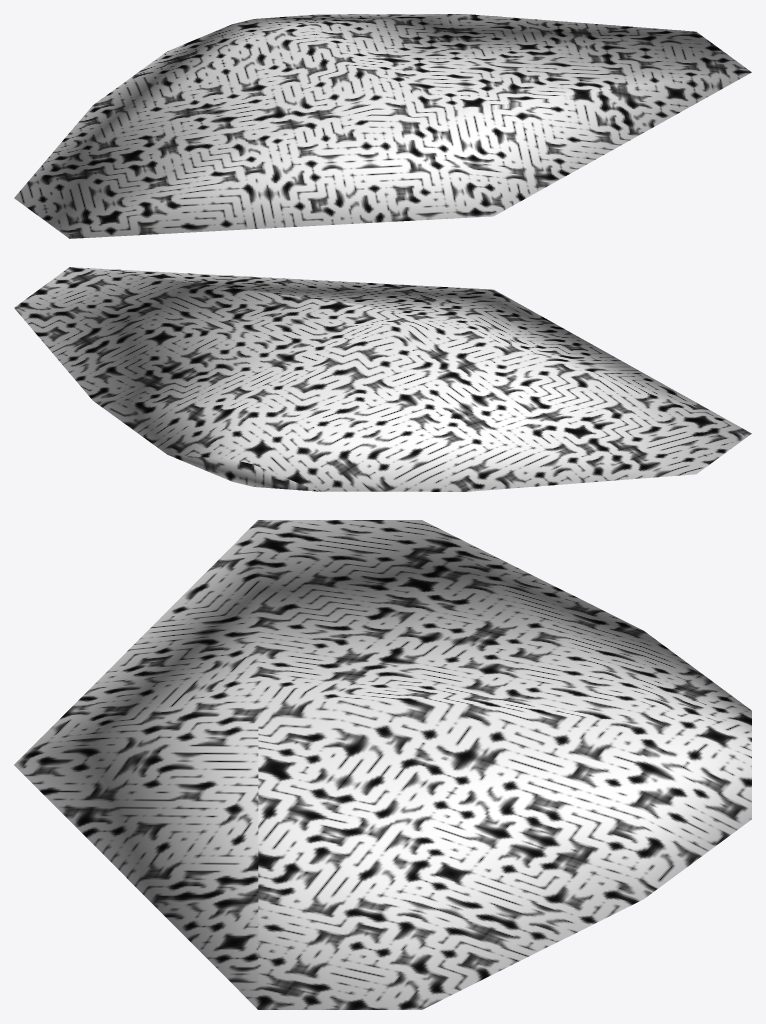
File: ship3.obj
The picture shows the model from 3 angles, top to bottom: view 1: azimuth 30°, elevation 25°; view 2: azimuth 150°, elevation 25°; view 3: azimuth 270°, elevation 25°; orthographic projection. The views are drawn at different scales.
Parts seen in each view (by area): view 1: Ship3_Cube; view 2: Ship3_Cube; view 3: Ship3_Cube.
Part boxes in pixels (x1=…): Ship3_Cube: x1=14, y1=14, x2=751, y2=238; Ship3_Cube: x1=14, y1=267, x2=751, y2=491; Ship3_Cube: x1=14, y1=520, x2=751, y2=1009.
Size of the model in its own units: 14.16 by 1.49 by 9.01.
